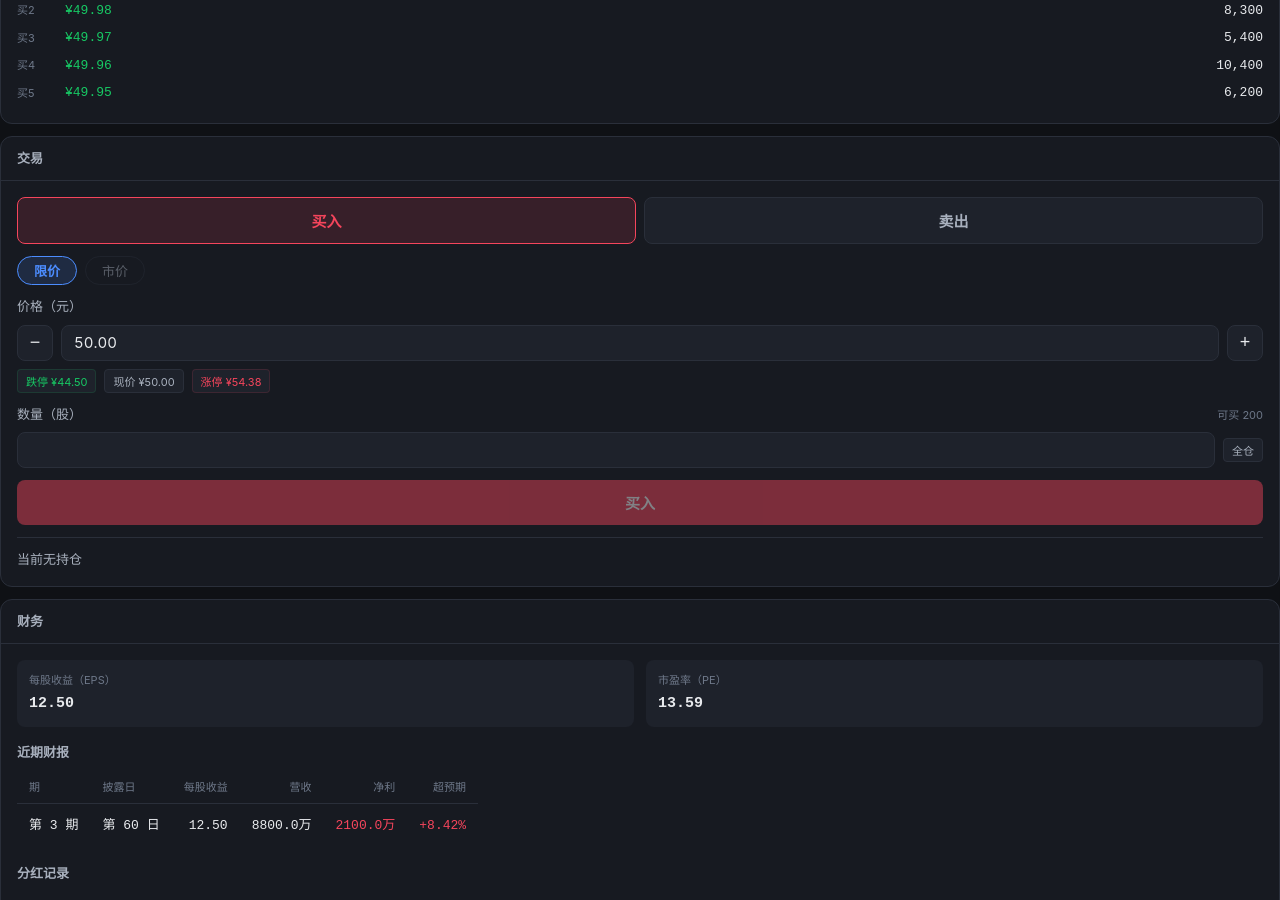
Stock 相位推导 › lastTick=1189 → 1190，属结算相位，一律禁止下单
(page scrolled)
Note: 结算相位下，即使填了合法数量也不能提交
Type "100" into the number field with test id "qty-input" at (616, 450), box [17,432,1215,468]
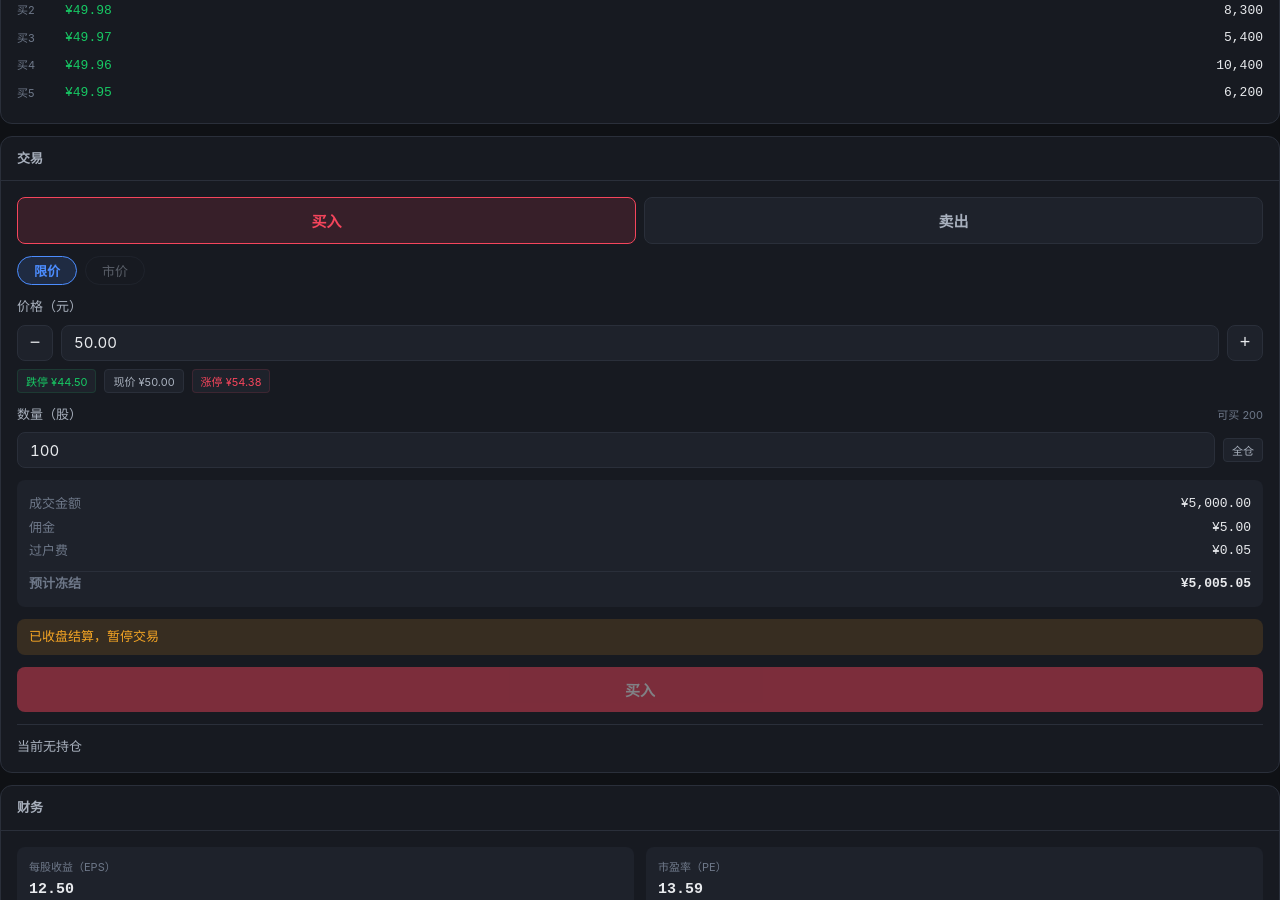
Expected: the button with test id "submit-order" is disabled, [17,666,1263,712]
Expected: the text "已收盘结算，暂停交易" is shown, [17,619,1263,654]
